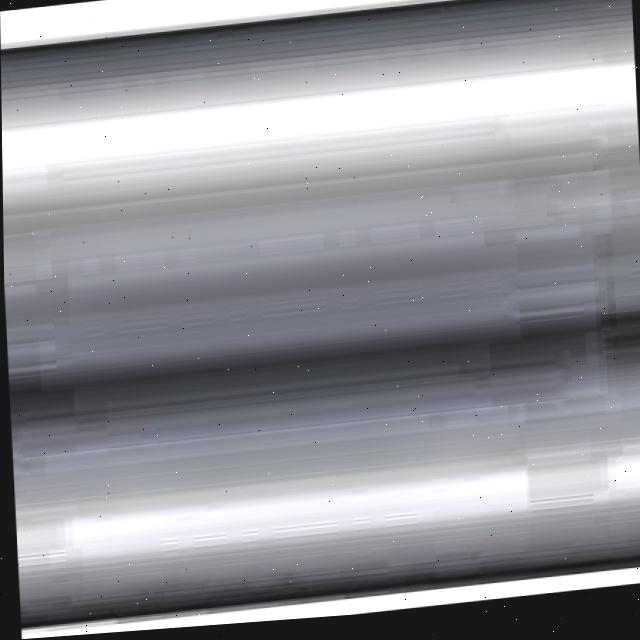metal: (0, 0, 640, 631)
